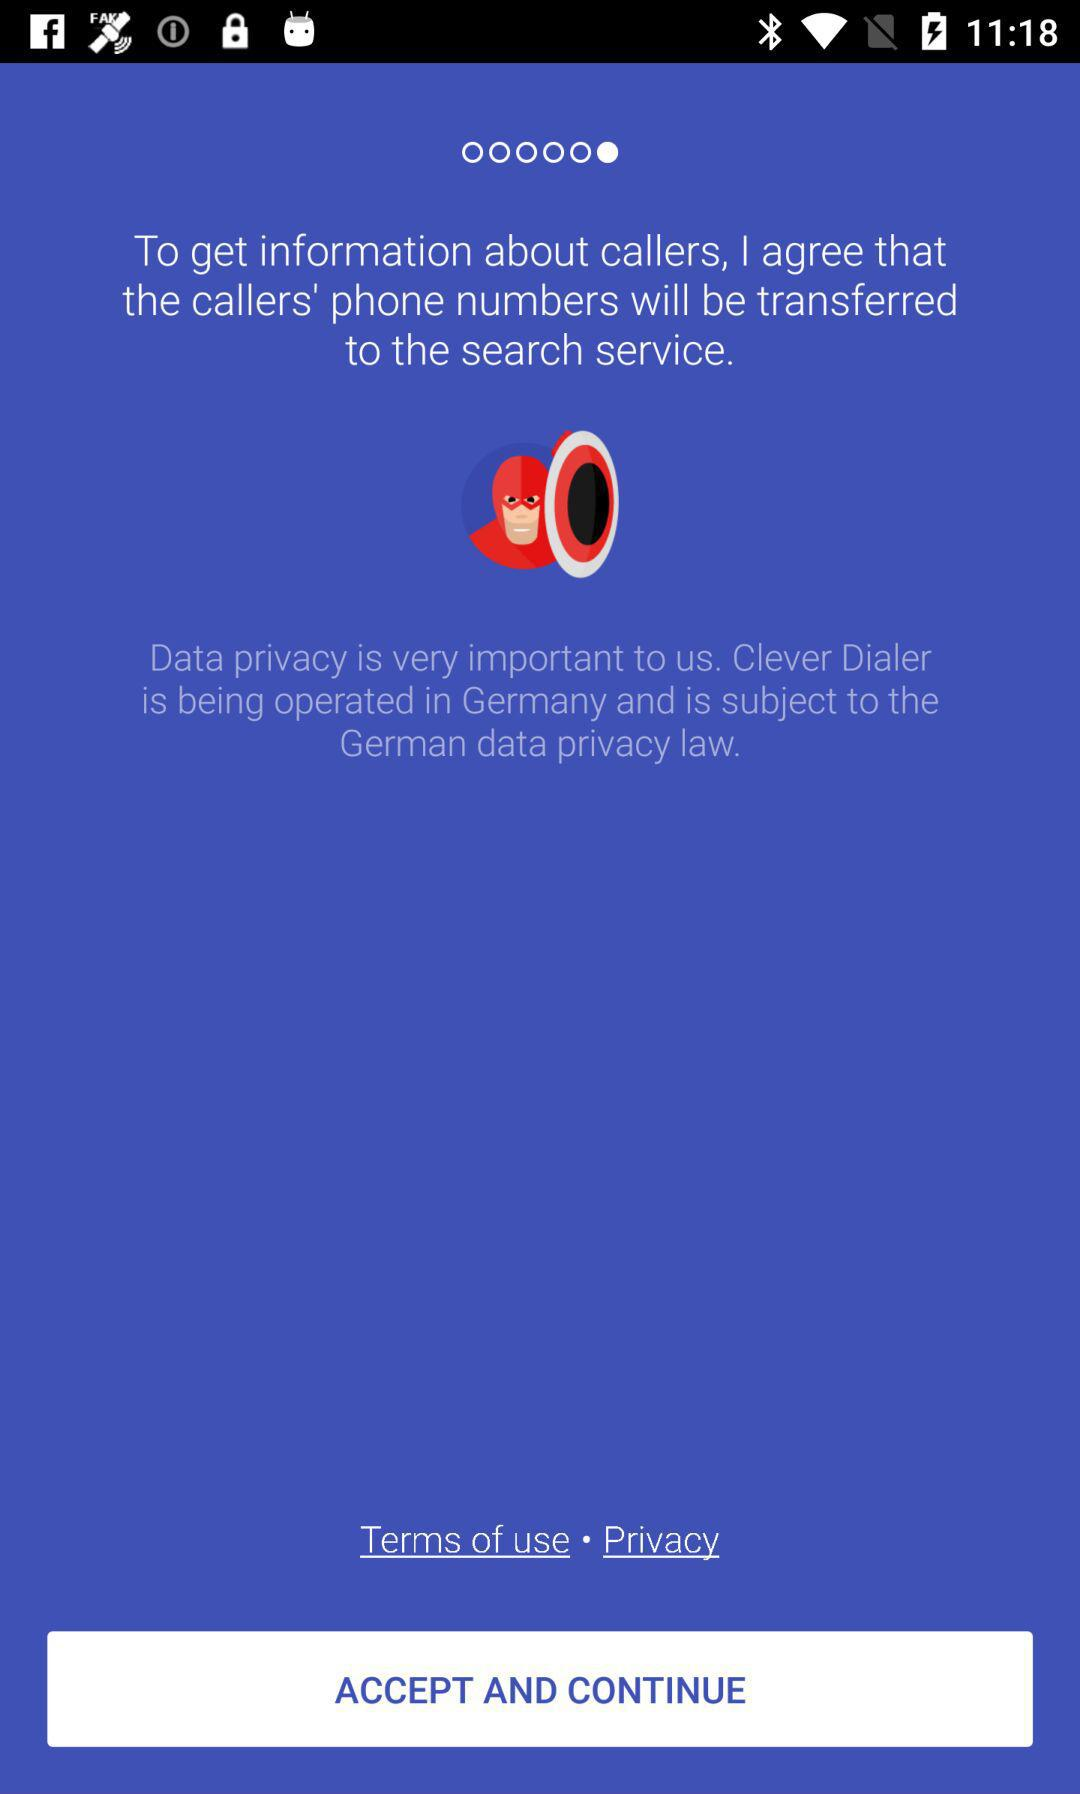Image: (462, 431, 620, 580)
PageIndicator: (461, 141, 620, 167)
Text: (123, 235, 957, 368), (143, 642, 940, 766), (359, 1524, 571, 1559), (603, 1524, 721, 1561)
TextButton: (47, 1631, 1034, 1748)
UpperTaskBar: (1, 1, 1080, 64)
